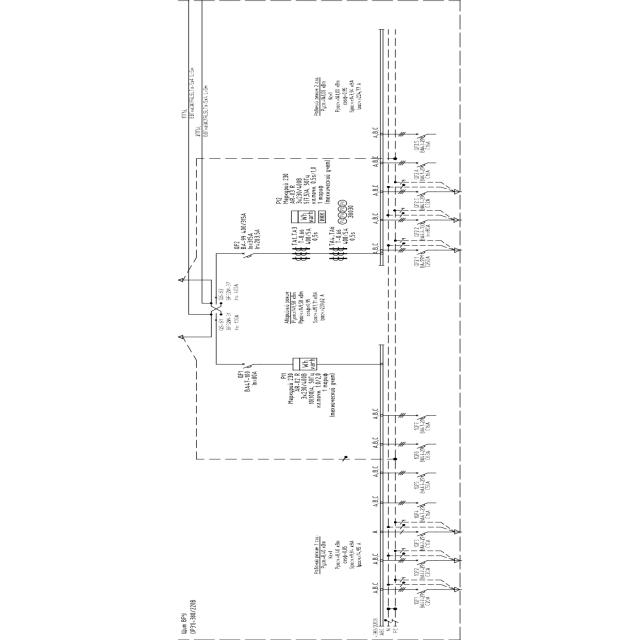-: (287, 371, 338, 419), (283, 160, 333, 204), (240, 212, 262, 250), (180, 599, 198, 635), (334, 226, 357, 247), (298, 226, 318, 247), (243, 370, 258, 393), (225, 312, 240, 332), (225, 282, 240, 301), (418, 447, 433, 463), (419, 477, 433, 494), (419, 223, 433, 240), (418, 535, 432, 551), (419, 418, 432, 435), (419, 564, 432, 580), (419, 593, 432, 609), (419, 195, 432, 211), (419, 506, 432, 522), (419, 138, 432, 154), (419, 255, 432, 269), (370, 242, 380, 254), (370, 184, 380, 196), (371, 495, 380, 508), (372, 408, 381, 421), (371, 582, 380, 594), (370, 127, 379, 139), (370, 437, 379, 449), (371, 212, 380, 224), (370, 466, 379, 478), (370, 553, 379, 565), (370, 155, 379, 167), (370, 529, 380, 534)
PA: (337, 206, 348, 212), (337, 218, 348, 224), (337, 212, 348, 218)
PV: (337, 200, 348, 206)
QF: (414, 190, 428, 197), (415, 530, 428, 537), (241, 252, 254, 259), (414, 133, 428, 139), (415, 502, 429, 508), (414, 162, 428, 168), (414, 218, 428, 224), (414, 249, 428, 255), (414, 559, 428, 565), (414, 588, 428, 594), (415, 414, 429, 420), (414, 443, 428, 449), (415, 472, 429, 478), (242, 362, 254, 369)
TT: (292, 247, 311, 261), (329, 247, 348, 261)
WH: (288, 356, 322, 372), (290, 210, 316, 224)
switch: (209, 310, 222, 321), (210, 298, 222, 308)
